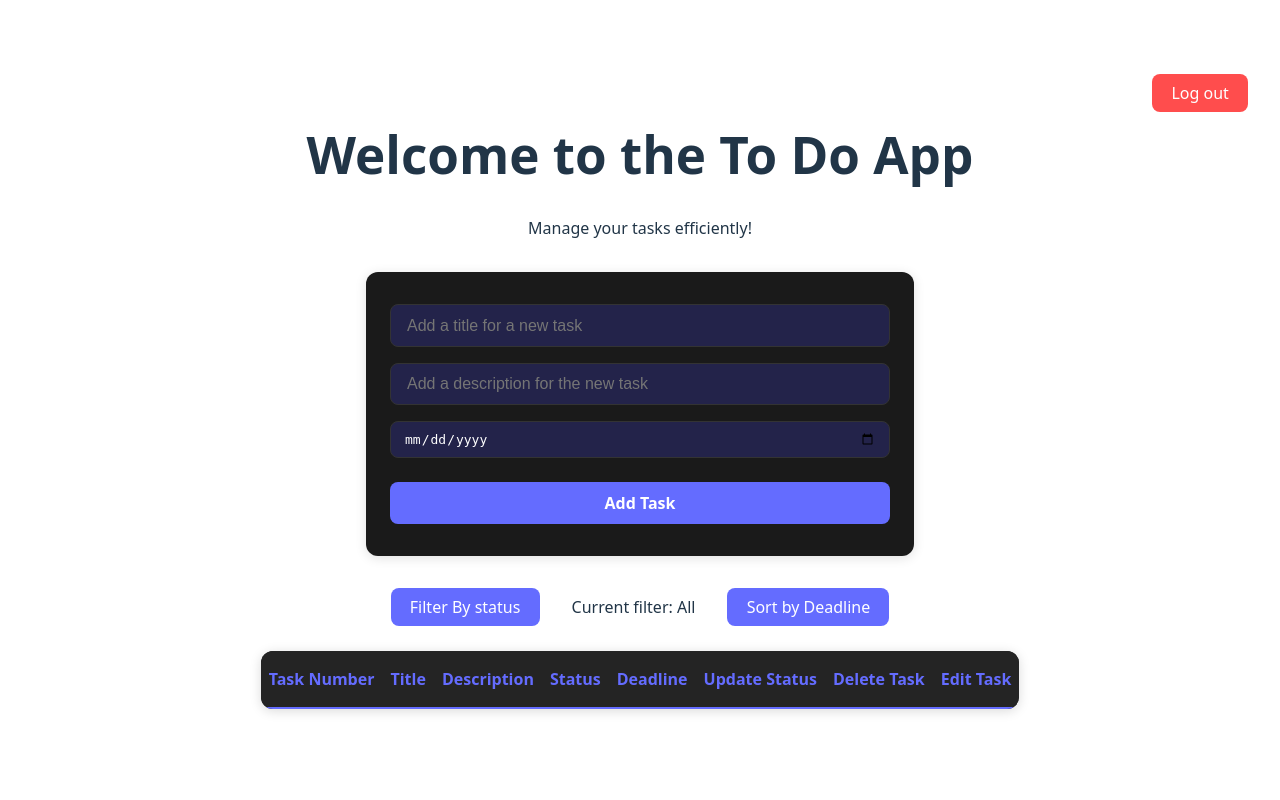
Test: can add a new task
In the field with placeholder "Add a title for a new task": (640, 326) [390,304,890,347], type "New Task"
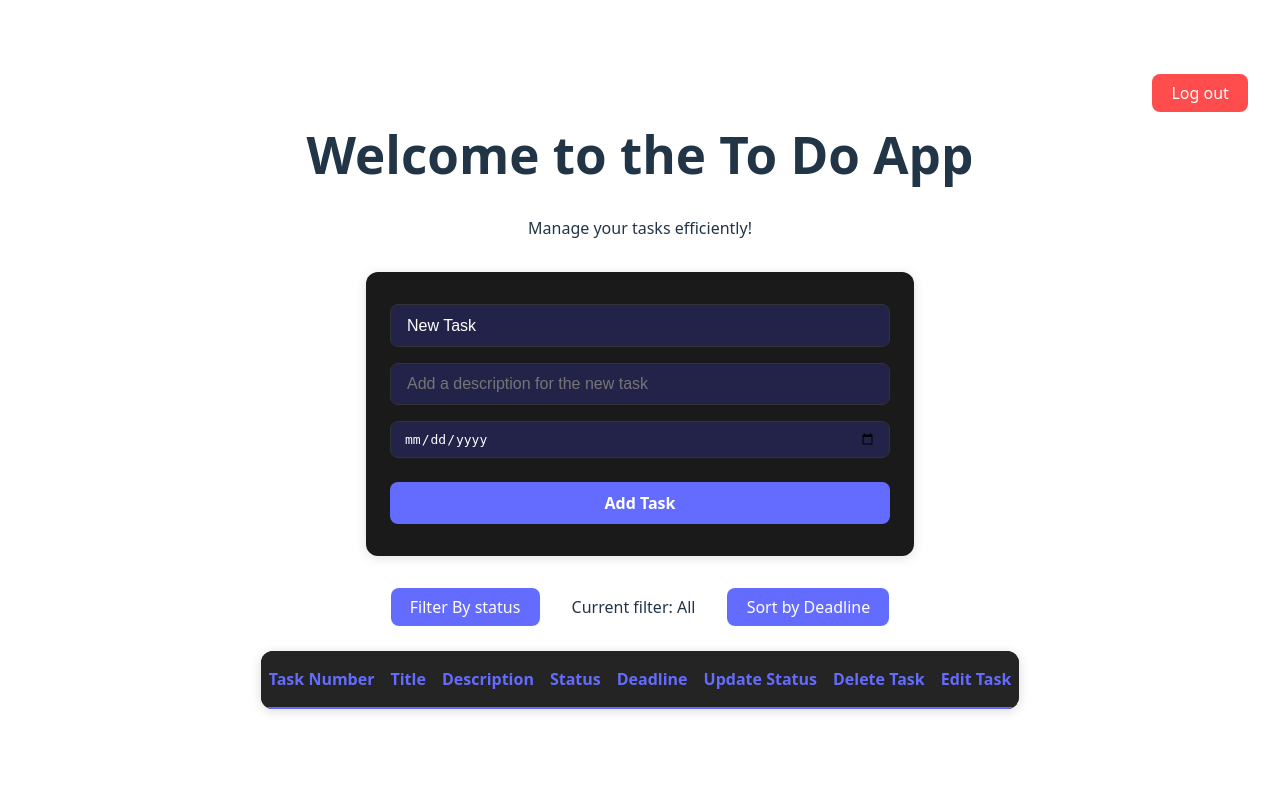
In the field with placeholder "Add a description for the new task": (640, 384) [390,363,890,405], type "Desc"
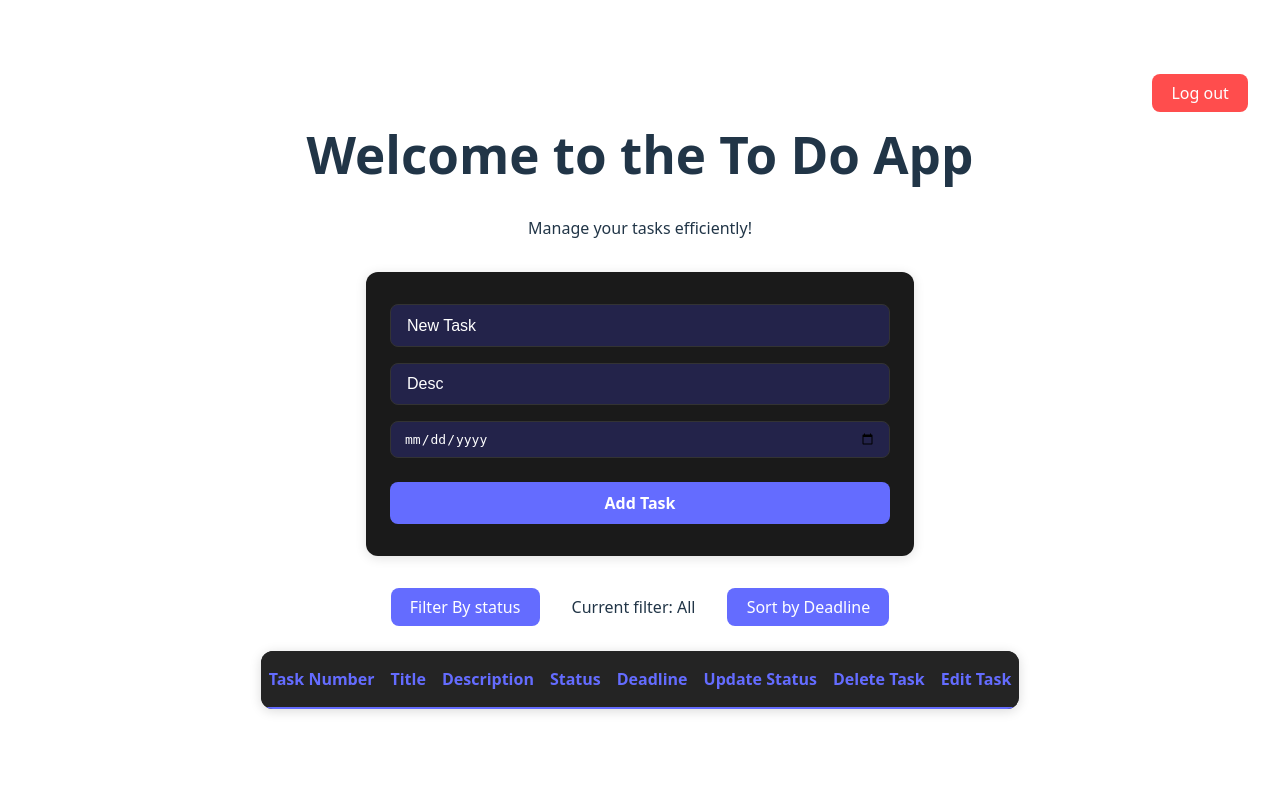
In the date field with placeholder "Select a due date": (640, 440) [390,421,890,458], type "2025-07-07"
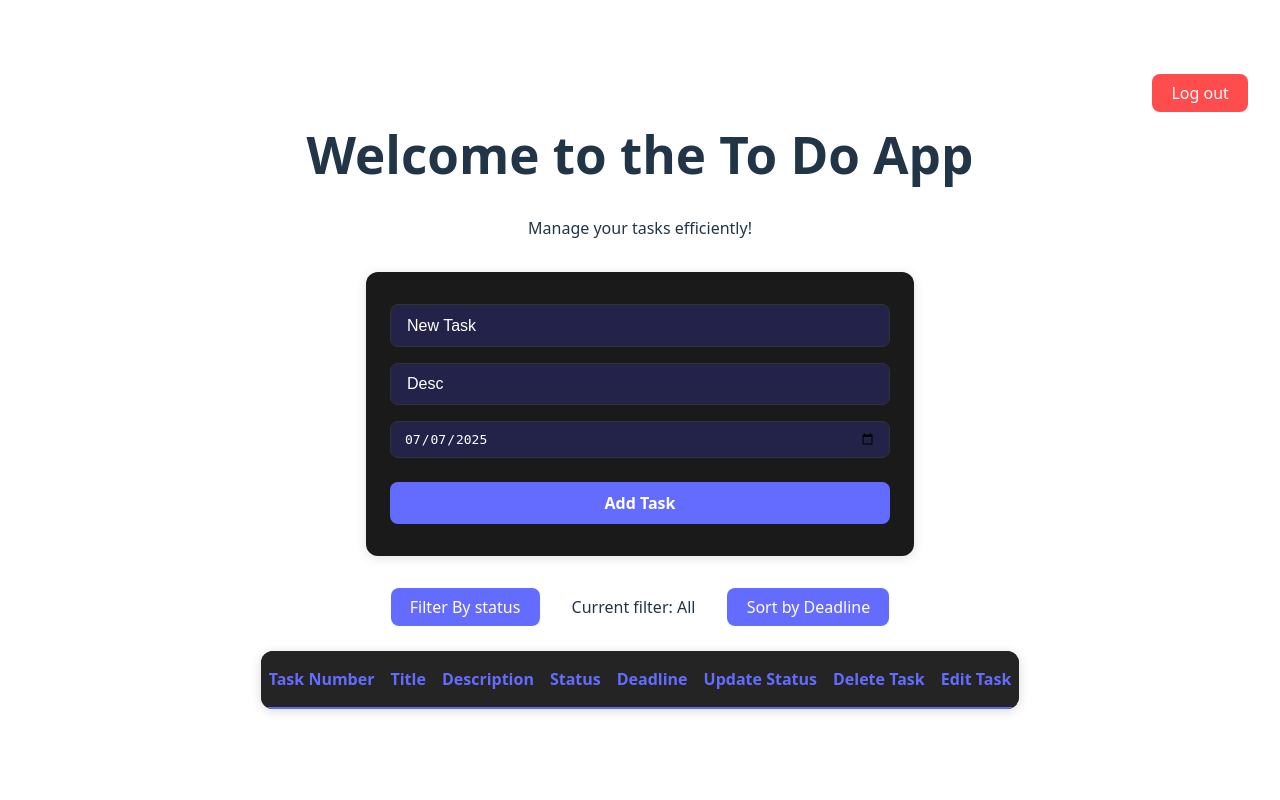
Click the button "Add Task": (640, 503) [390,482,890,524]
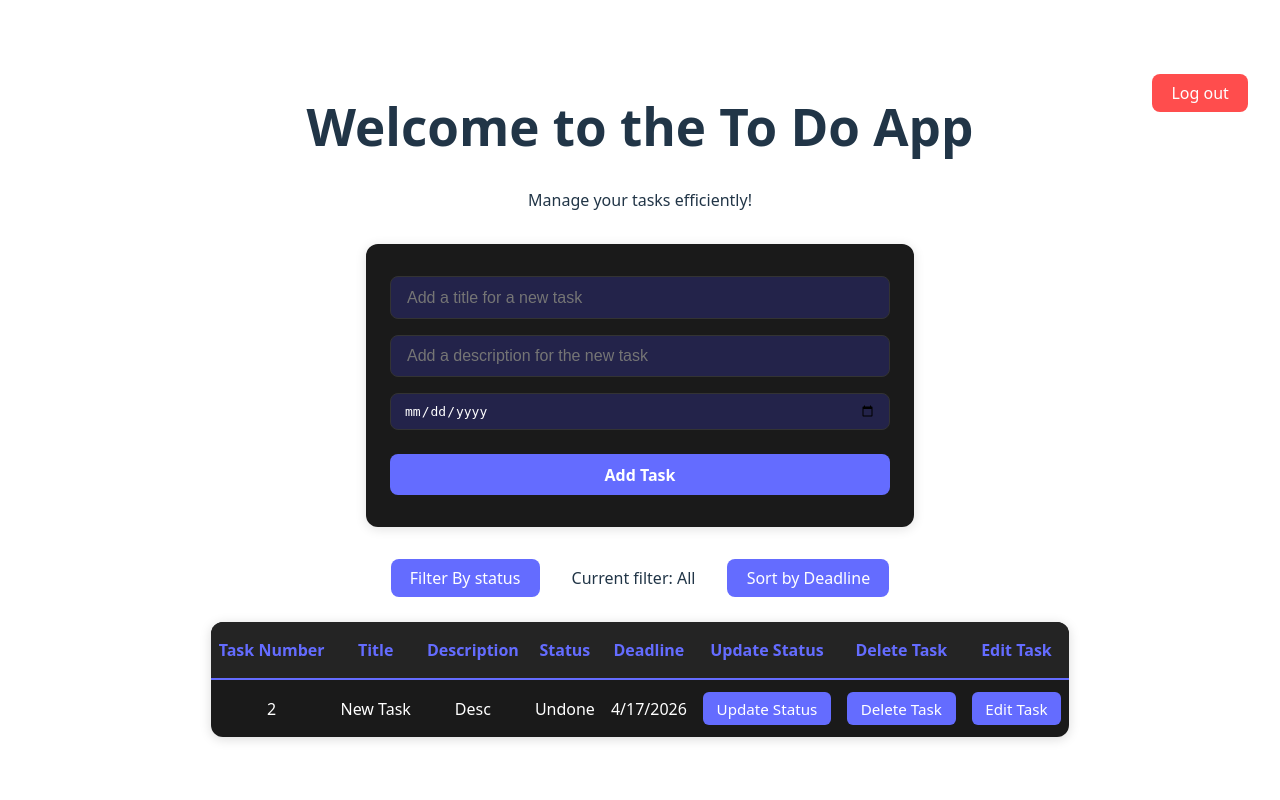
Result: the text "New Task" is shown at [332,679,419,737]
